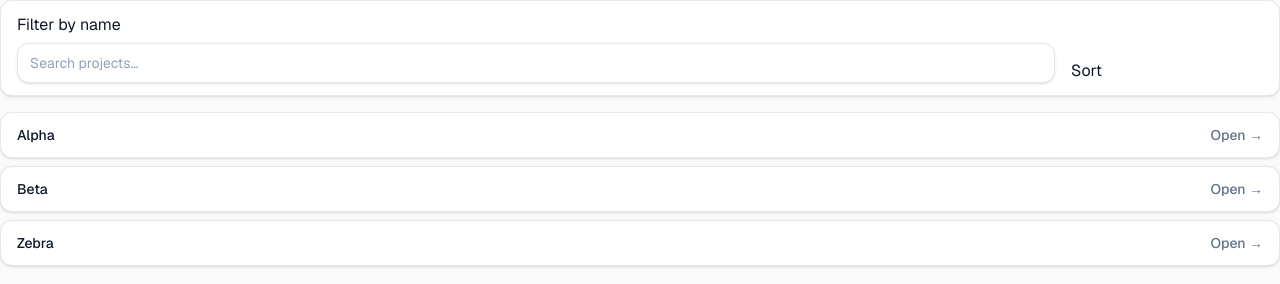
Test case: TeamProjectsListConnector › shows empty list message when no projects match the search
Type "zzz" into the search field. click: coordinates (536, 63)
box: x1=17 y1=43 x2=1055 y2=83
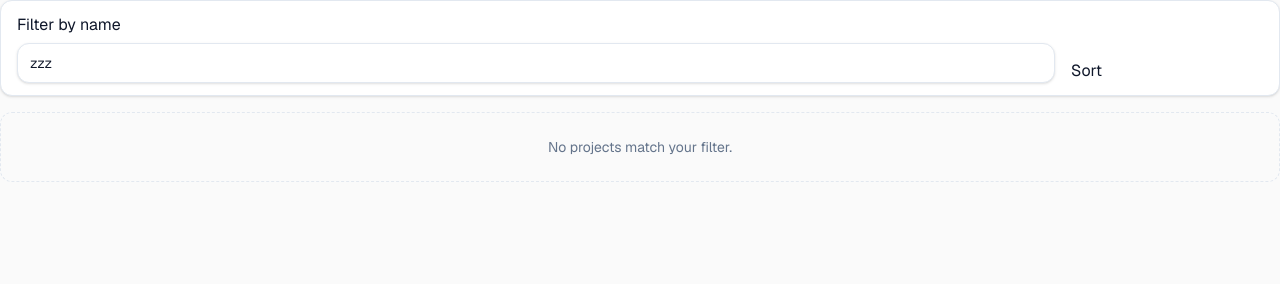
Now the text "No projects match your filter." is shown, box x1=0 y1=112 x2=1279 y2=182
